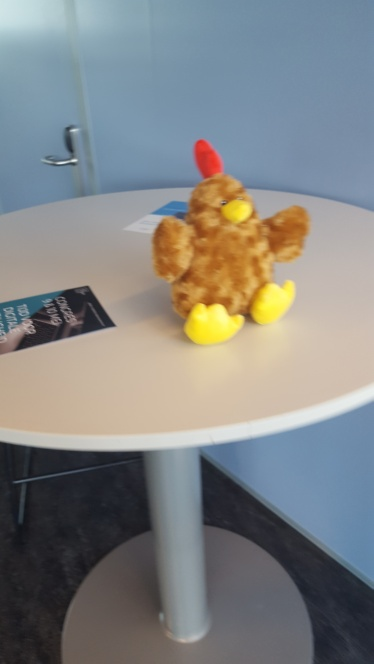chicken_front: (150, 139, 311, 345)
